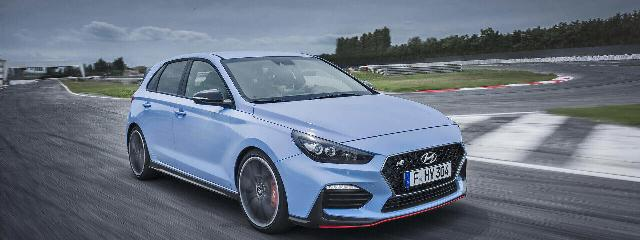hyundai: (126, 51, 468, 234)
